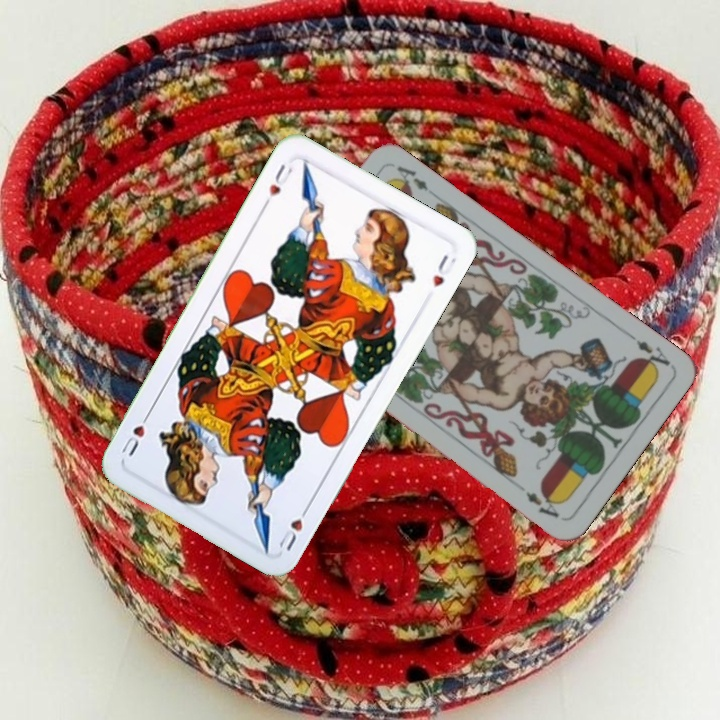EA: (623, 328, 673, 375)
HU: (275, 500, 313, 554), (259, 160, 296, 210)
